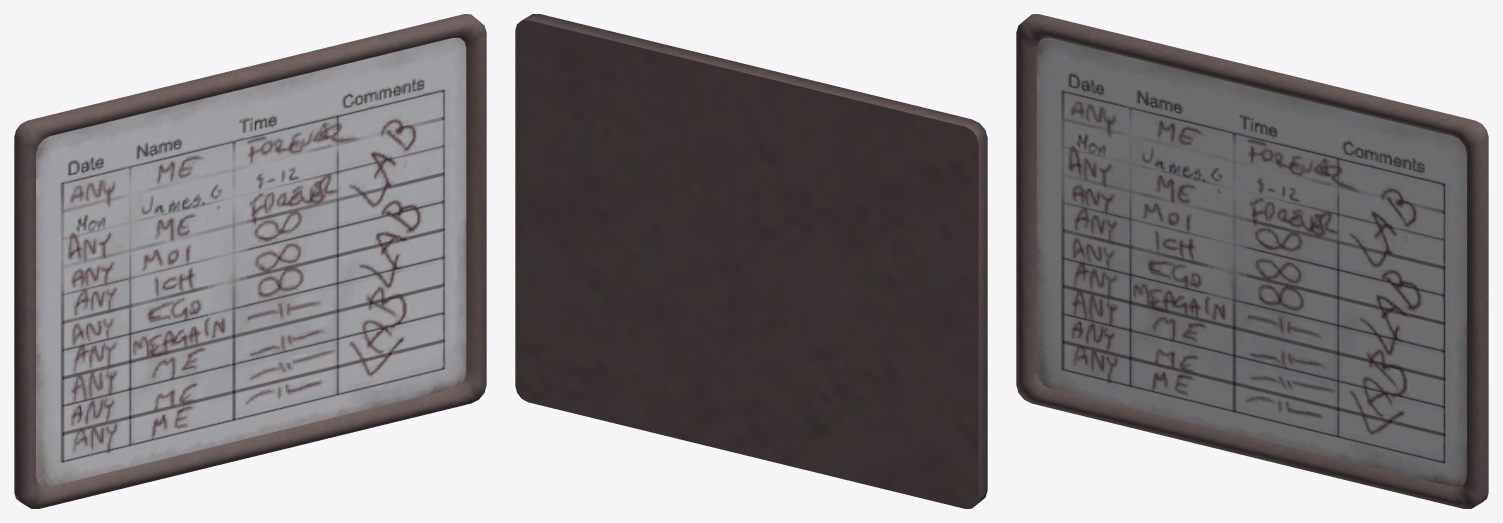
Rendered from schedule_board02_wau.dae.
3 renders of one model, left to right at view 1: azimuth 30°, elevation 25°; view 2: azimuth 150°, elevation 25°; view 3: azimuth 330°, elevation 25°, orthographic.
Parts seen in each view (by area): view 1: pCube24; view 2: pCube24; view 3: pCube24.
Part boxes in pixels (left/top/right/bottom): pCube24: left=14, top=14, right=486, bottom=508; pCube24: left=515, top=14, right=987, bottom=508; pCube24: left=1016, top=14, right=1488, bottom=508.
Size of the model in its own units: 48.9 by 38.55 by 1.7.
Materials: 1 (1 with a texture image).
